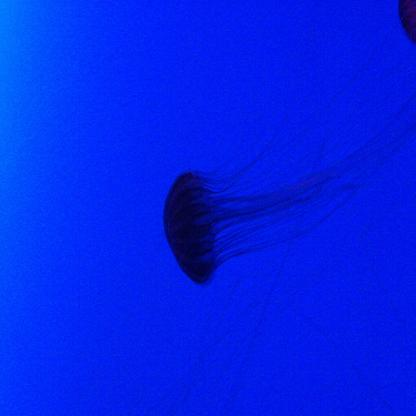Moon: (161, 173, 323, 283)
